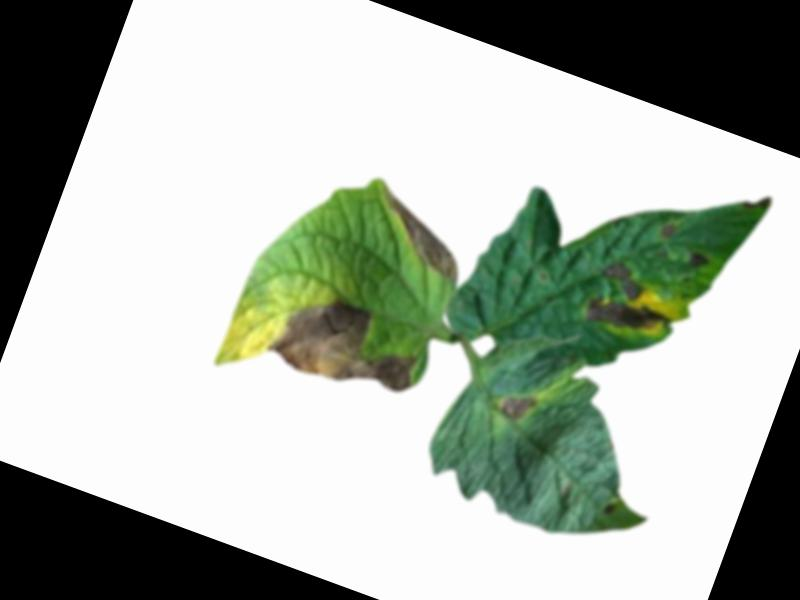Early_blight: (262, 278, 432, 411), (361, 184, 478, 282), (577, 254, 684, 350), (496, 384, 538, 423), (683, 247, 712, 272), (657, 218, 679, 241)
